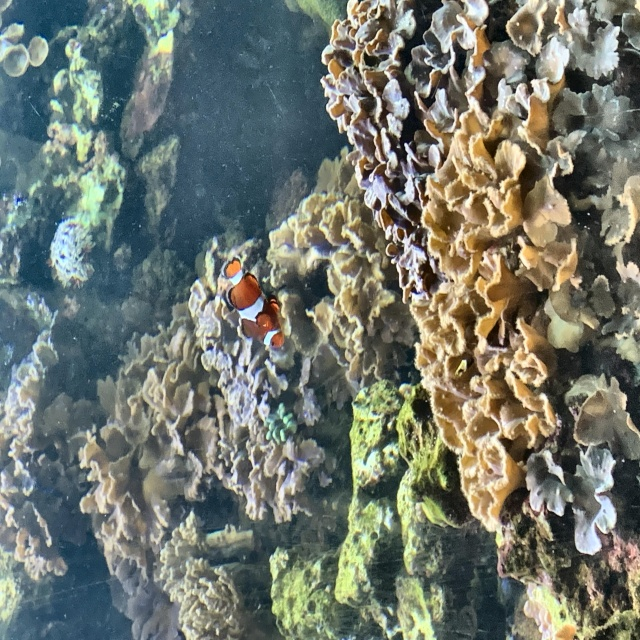fish: (221, 255, 286, 351)
